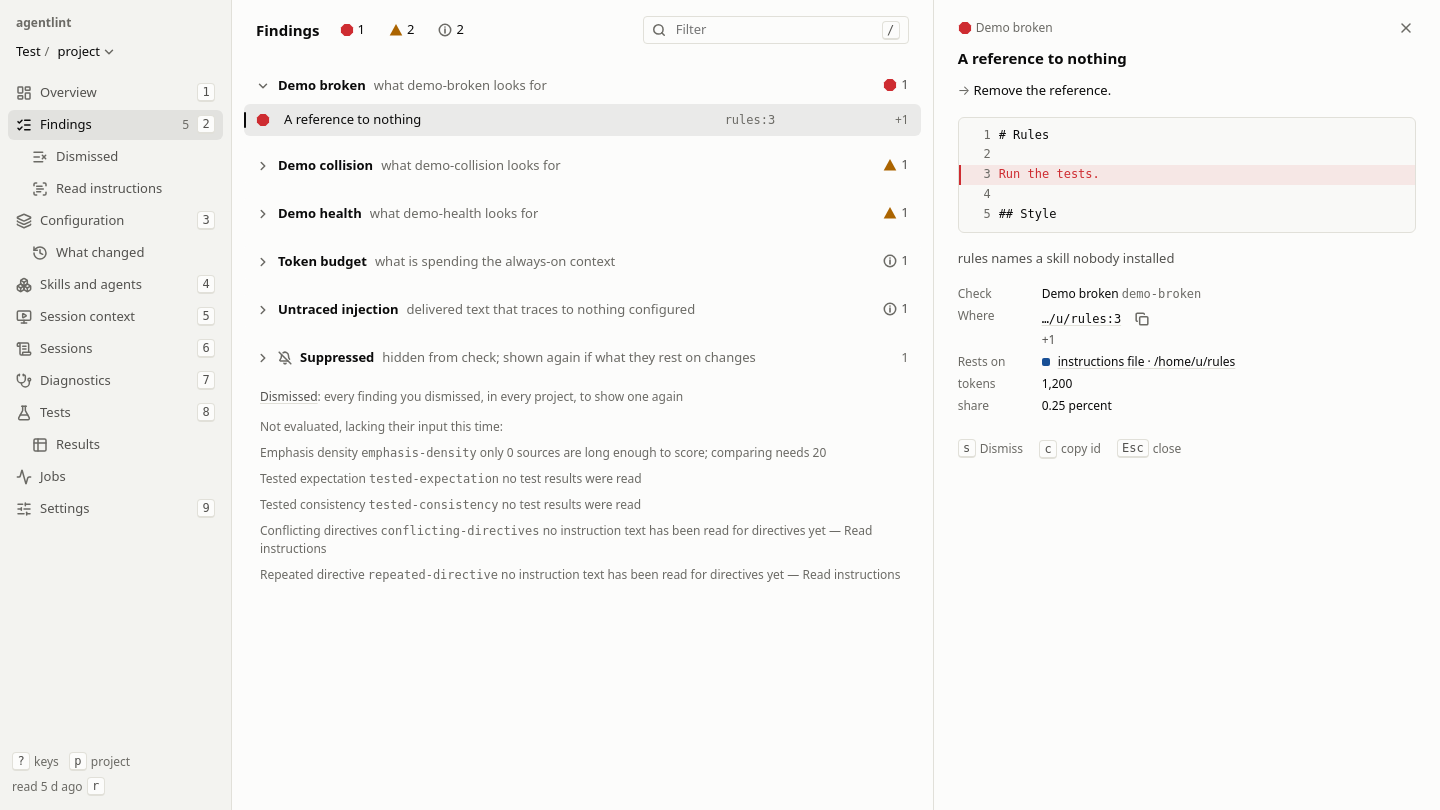
Dismiss, in a finding › drops a refusal that lands after you moved to another finding
Expected: the element named "Finding" is shown, x1=933 y1=0 x2=1439 y2=809
Press s
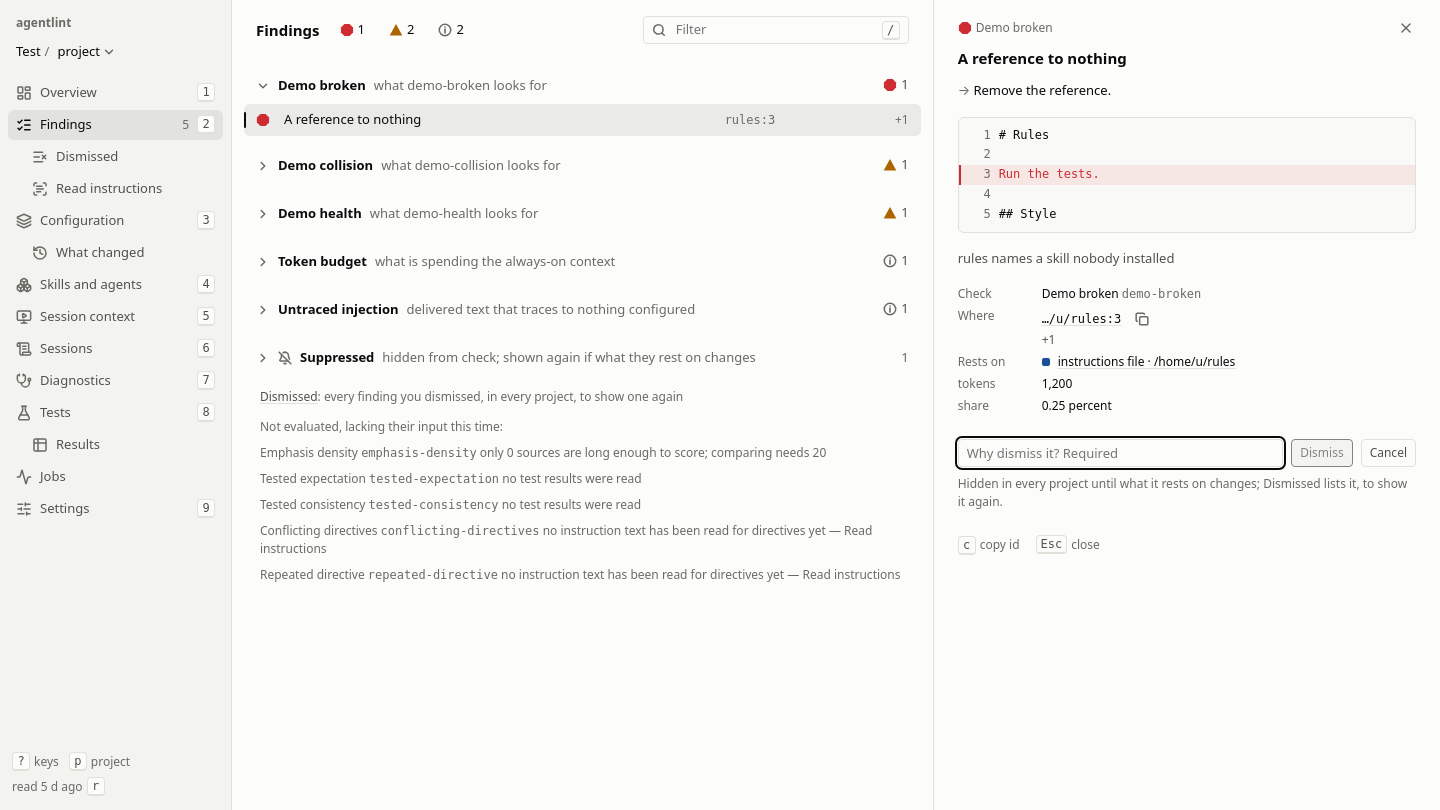
In the field labelled "Why dismiss it": (1120, 453) x1=958 y1=439 x2=1283 y2=467, type "noise"
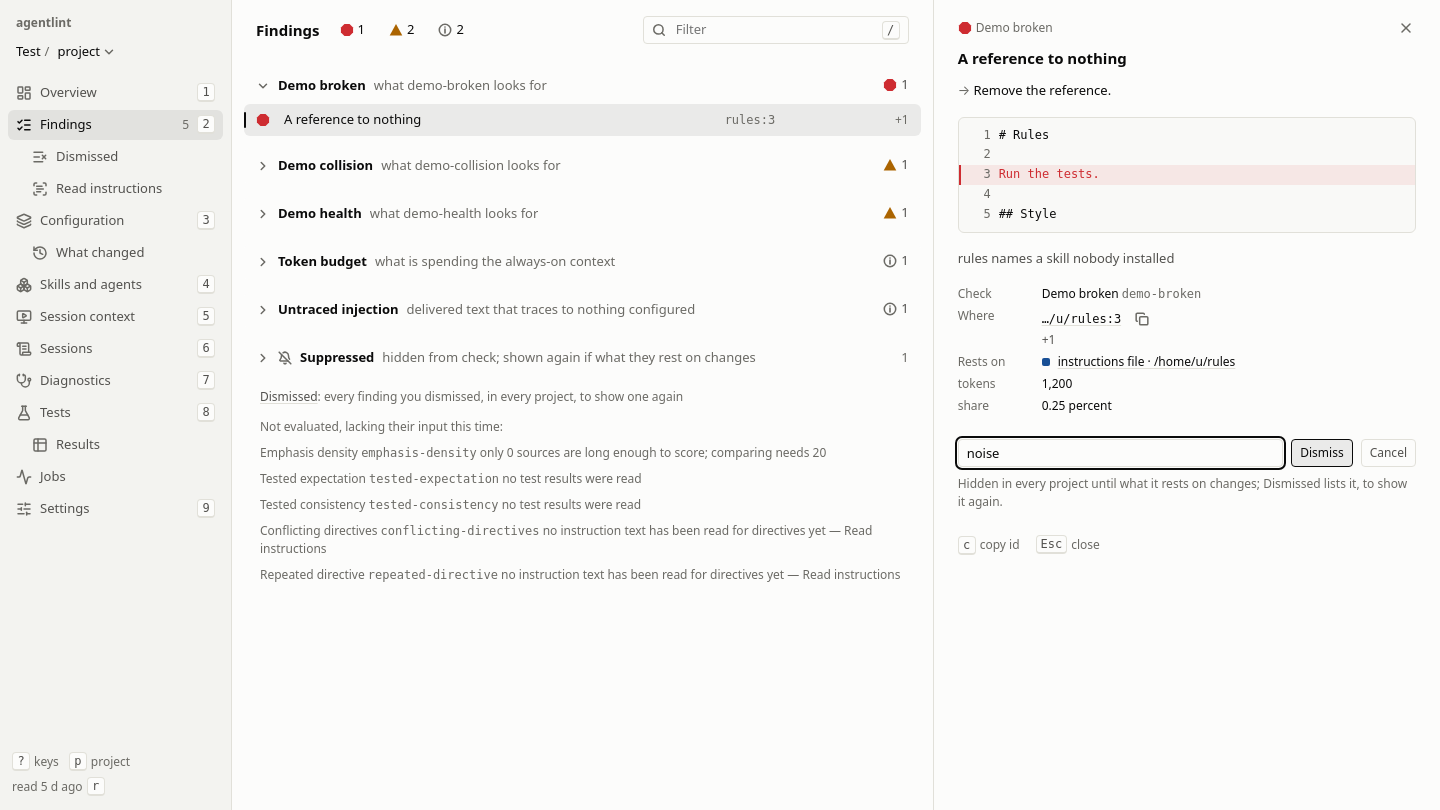
Submit the form, box x1=958 y1=439 x2=1416 y2=511
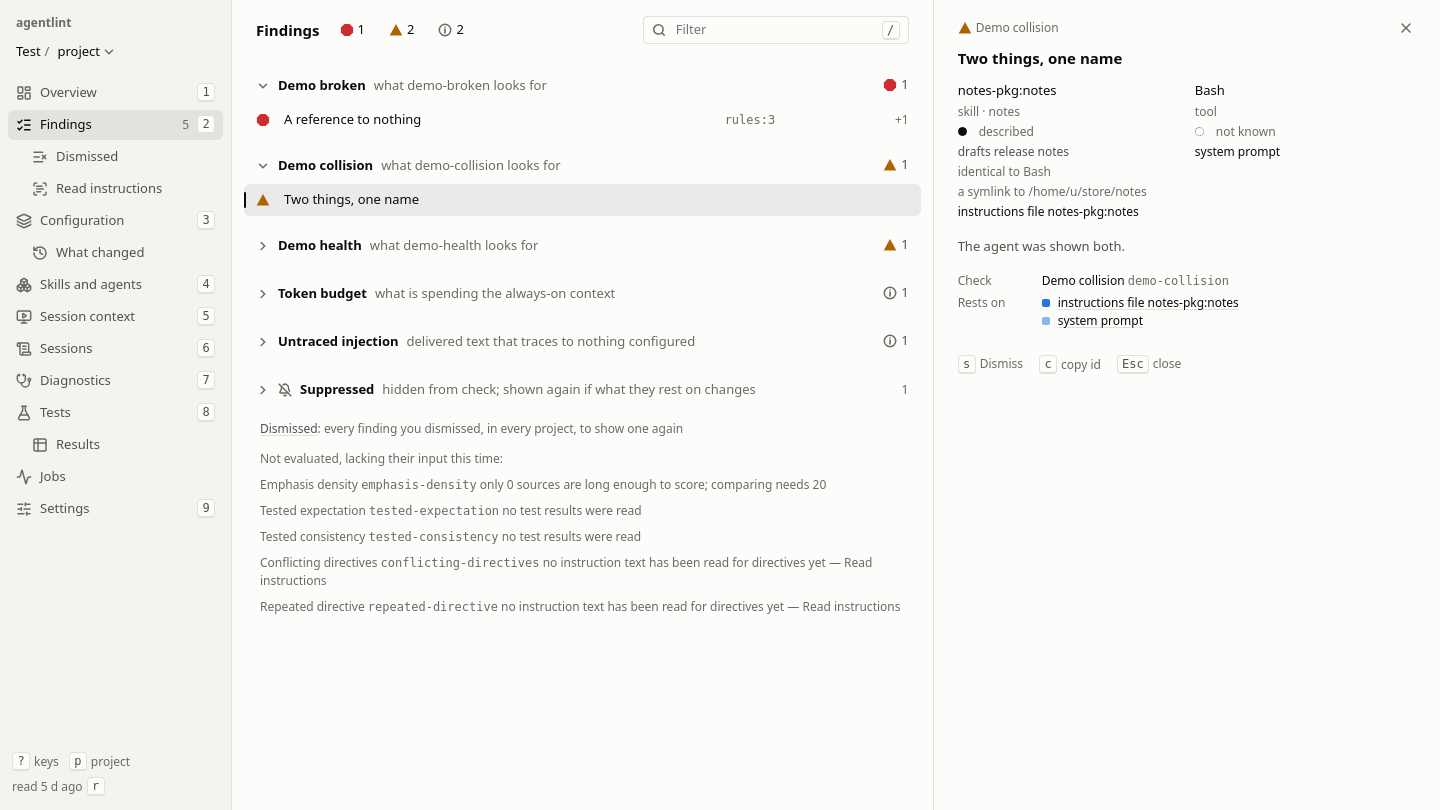
Expected: the button "s Dismiss" is enabled, x1=958 y1=354 x2=1023 y2=374
Now the heading "Two things, one name" is shown, box x1=958 y1=48 x2=1122 y2=68
